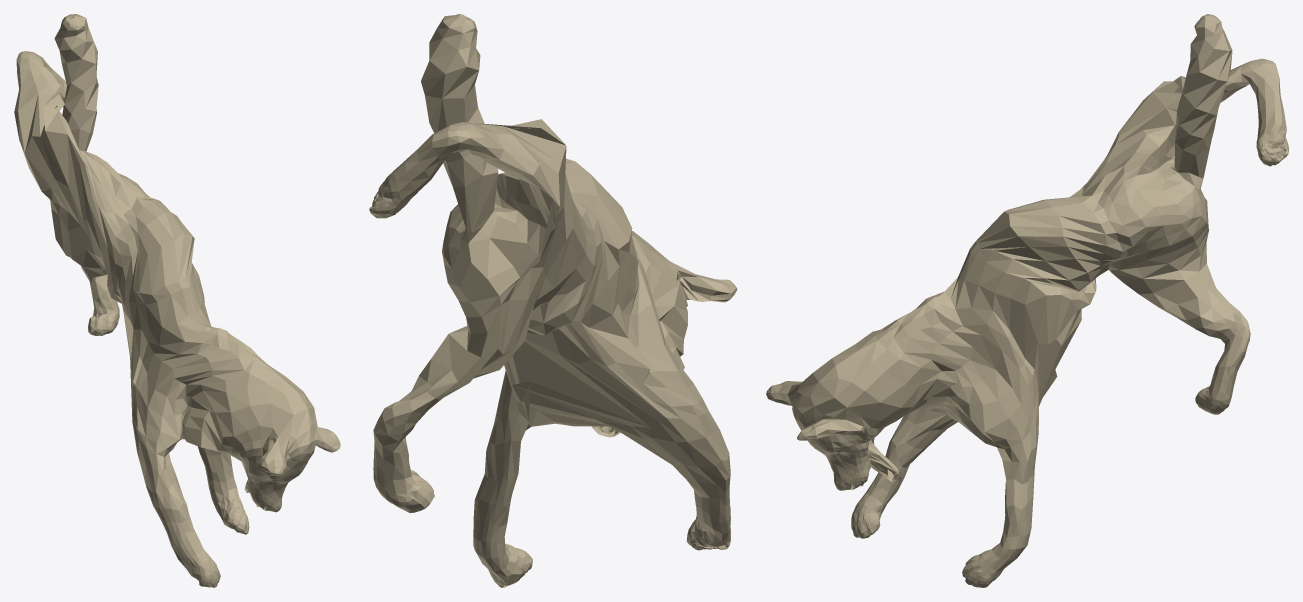
3 renders of one model, left to right at view 1: azimuth 30°, elevation 25°; view 2: azimuth 150°, elevation 25°; view 3: azimuth 270°, elevation 25°, orthographic. The views are drawn at different scales.
Parts seen in each view (by area): view 1: world; view 2: world; view 3: world.
Boxes of the visible parts, x1,y1,x2,y2 form: world: (14, 14, 340, 587); world: (369, 14, 737, 587); world: (766, 14, 1288, 587).
Size of the model in its own units: 0.3914 by 1.15 by 1.02.
